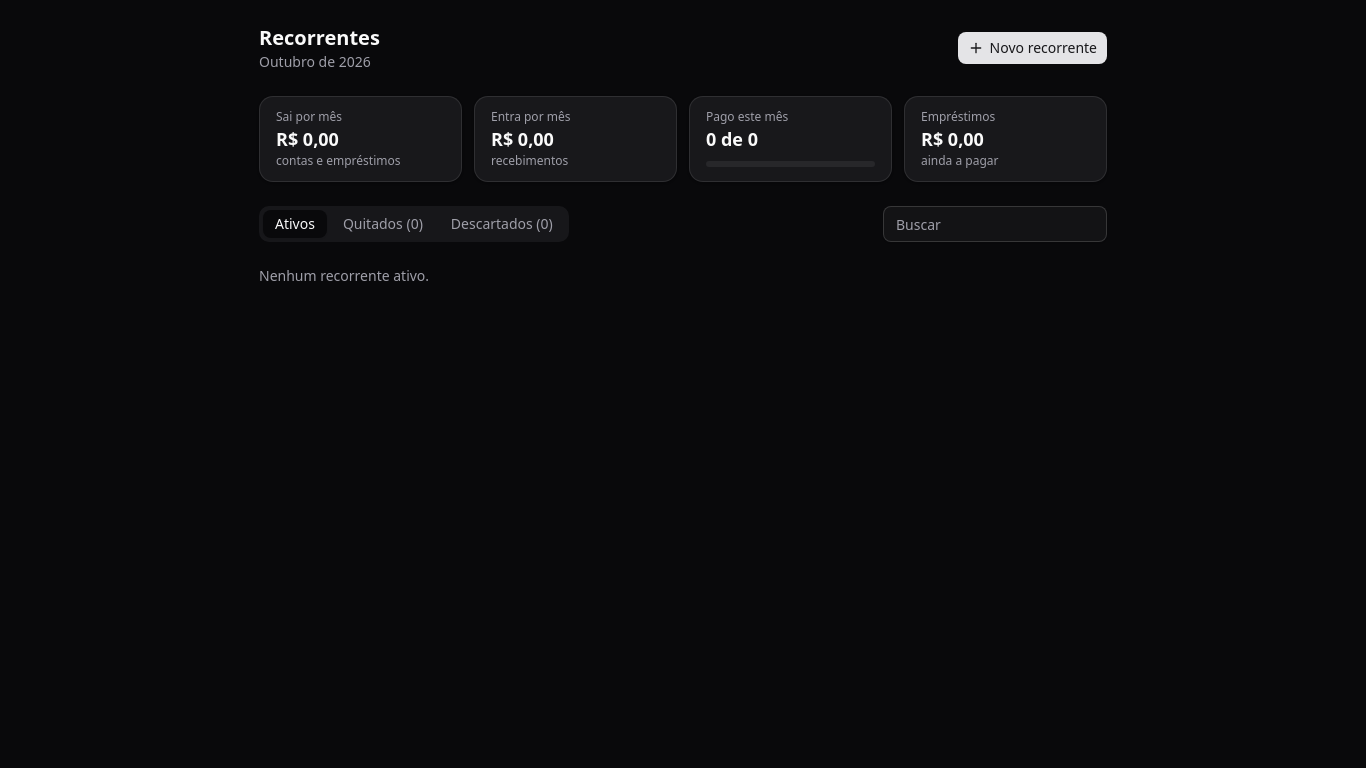
Recurring › hides the weekend policy for the business-day rule
Click the button "Novo recorrente" at point(1032, 48), box [958,32,1107,64]
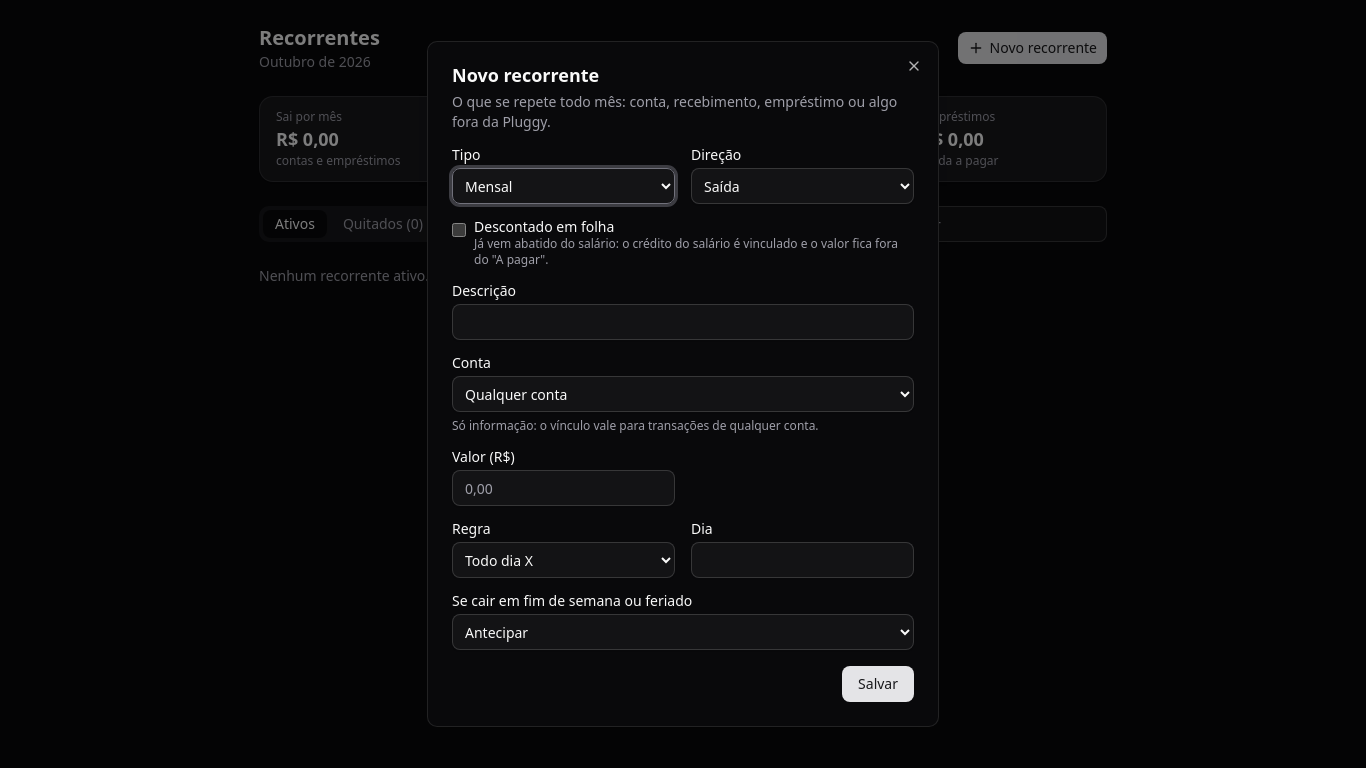
Check: the dropdown labelled "Se cair em fim de semana ou feriado" is shown, box [452,614,914,650]
Select "Nº dia útil" in the dropdown labelled "Regra" at point(564, 560), box [452,542,675,578]
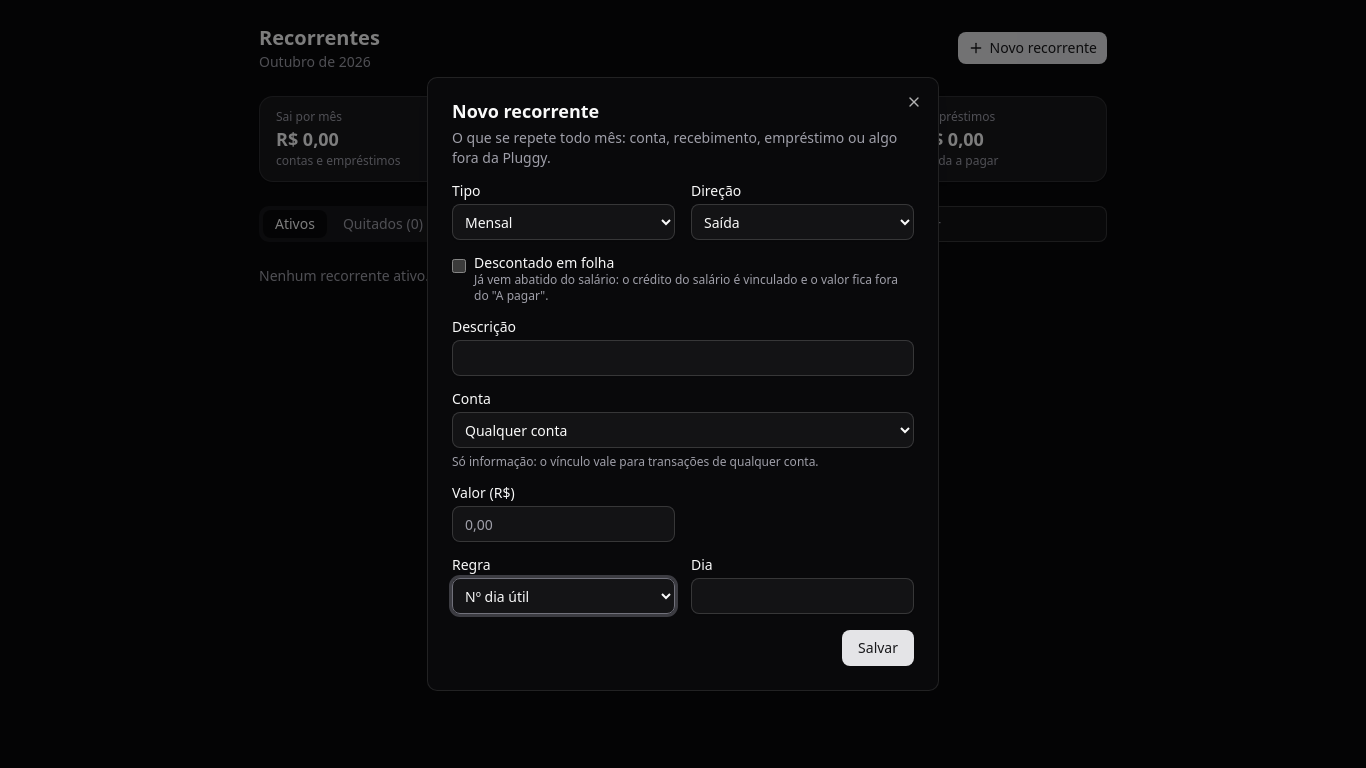
Check: the label labelled "Se cair em fim de semana ou feriado" is gone
